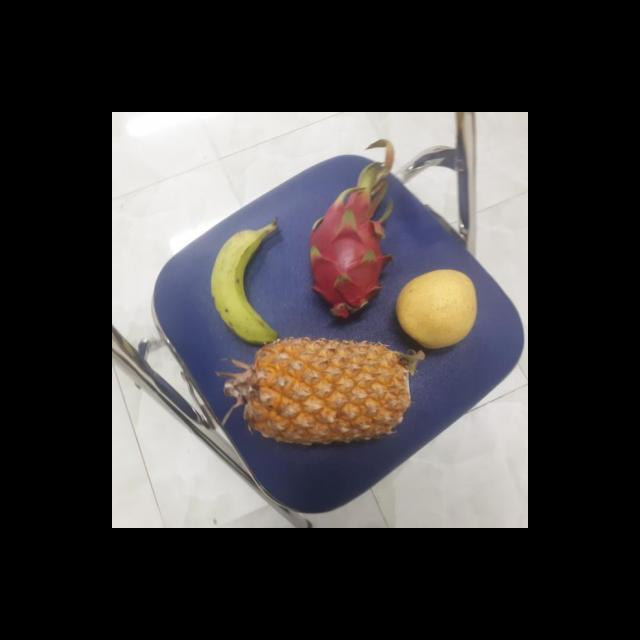banana: (208, 225, 280, 346)
pear: (394, 268, 482, 350)
pineapple: (228, 336, 415, 446)
pitaya: (304, 190, 390, 314)
